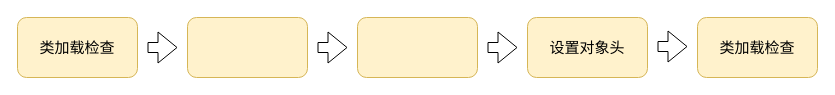
The diagram is 835 pixels wide and 95 high, and some of its shapes have lost their labels. Here are the shapes that lost their labels. From the top down, the box of each, then its label:
(186, 16, 308, 78): 分配内存
(356, 16, 478, 78): 初始化零值
